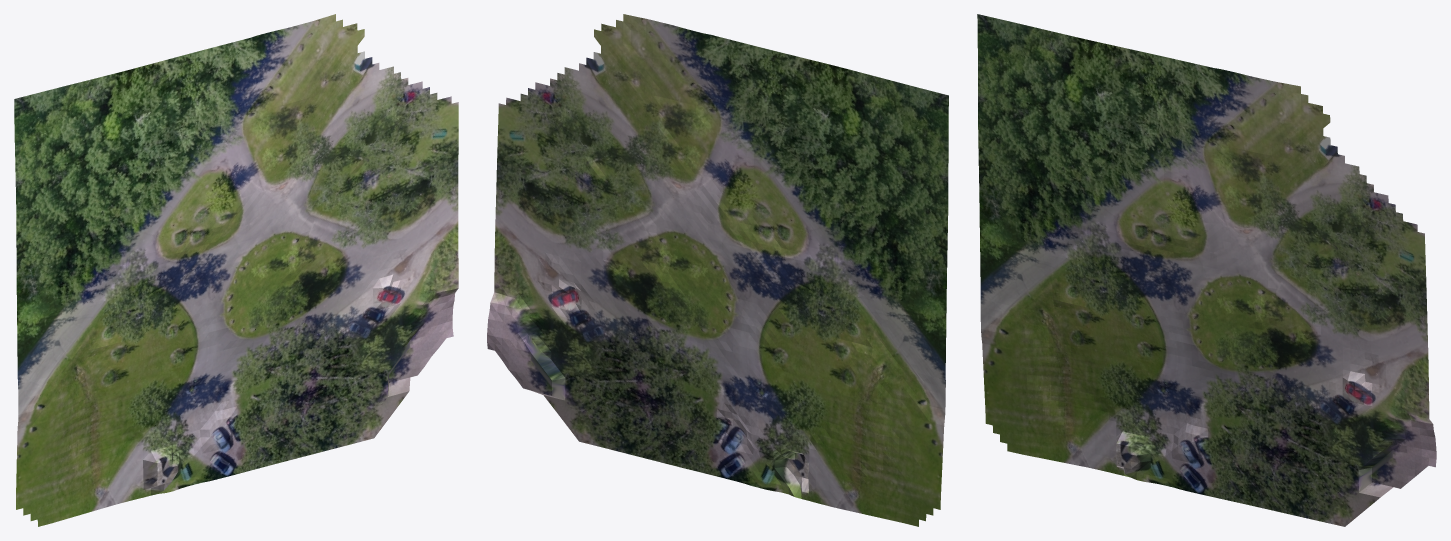
The model's file is odm_textured_model_geo.obj.
3 views of the same model, side by side, from view 1: azimuth 30°, elevation 25°; view 2: azimuth 150°, elevation 25°; view 3: azimuth 330°, elevation 25° (orthographic).
Size of the model in its own units: 82.87 by 77.47 by 4.52.
Materials: 1 (1 with a texture image).
